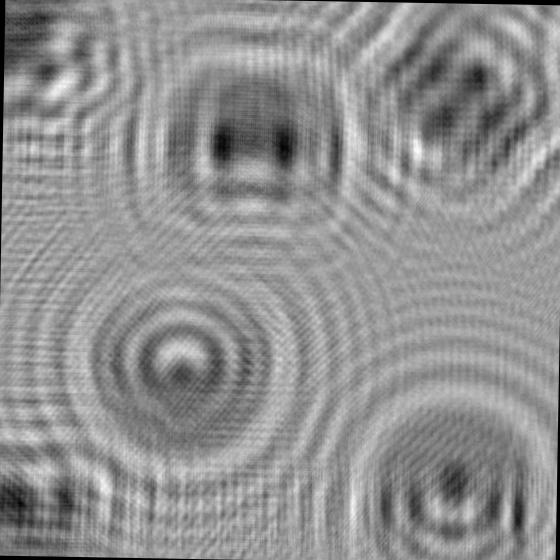C: (56, 244, 307, 488)
E: (108, 6, 411, 268)
F: (0, 407, 168, 558)
H: (336, 1, 560, 221)
K: (2, 0, 139, 165)
U: (316, 356, 559, 560)
